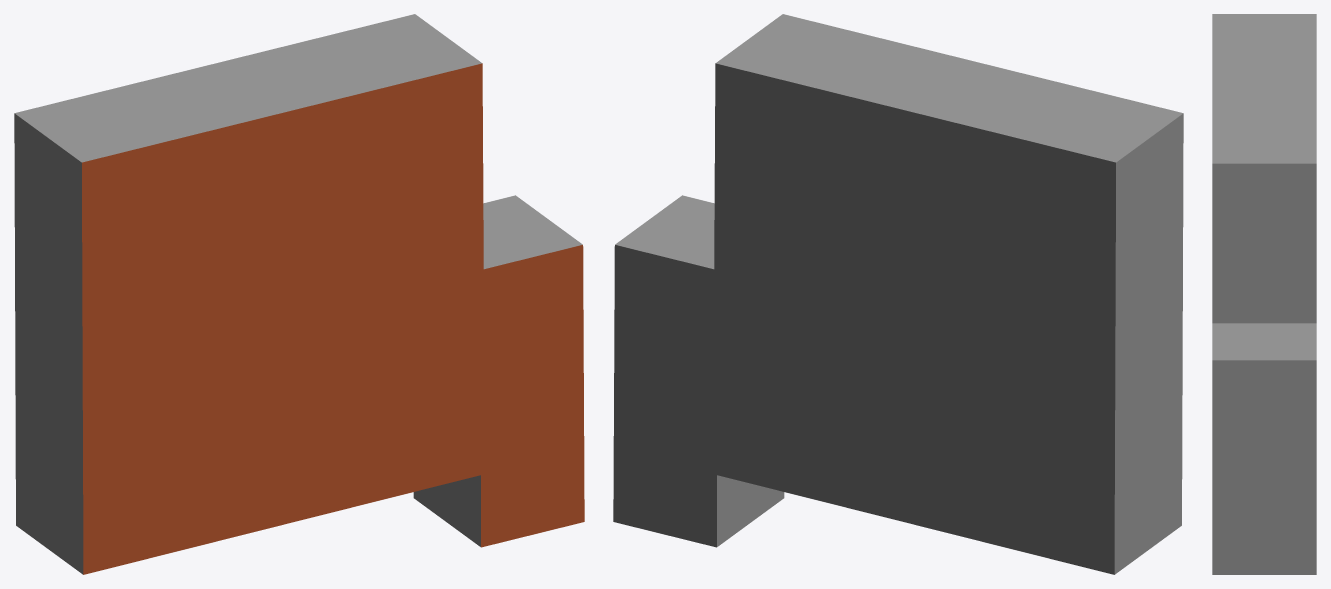
Rendered from construction_6204_assumed_A_Casa_h6m.obj.
3 renders of one model, left to right at view 1: azimuth 30°, elevation 25°; view 2: azimuth 150°, elevation 25°; view 3: azimuth 270°, elevation 25°, orthographic. The views are drawn at different scales.
Parts seen in each view (by area): view 1: construction_6204_assumed_A_Casa; view 2: construction_6204_assumed_A_Casa; view 3: construction_6204_assumed_A_Casa.
Boxes of the visible parts, box(x1,y1,x2,y2) form: construction_6204_assumed_A_Casa: box(14, 14, 584, 574); construction_6204_assumed_A_Casa: box(613, 14, 1183, 574); construction_6204_assumed_A_Casa: box(1212, 14, 1316, 574).
Size of the model in its own units: 25.81 by 23.74 by 6.
